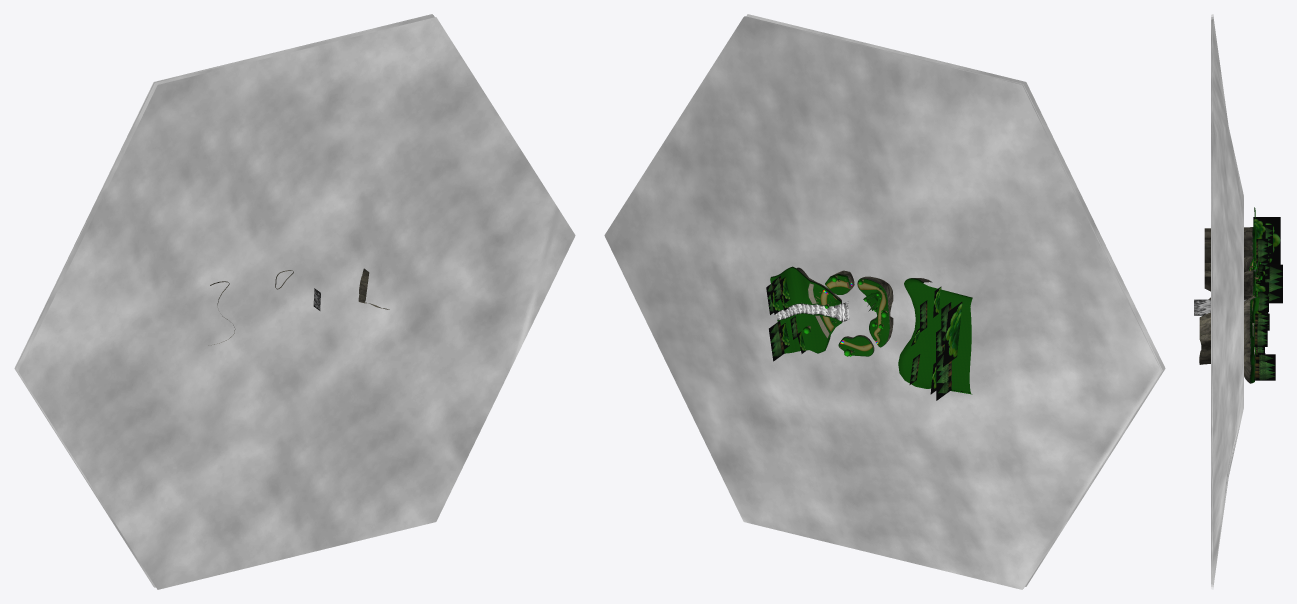
3 views of the same model, side by side, from view 1: azimuth 30°, elevation 25°; view 2: azimuth 150°, elevation 25°; view 3: azimuth 270°, elevation 25° (orthographic). The views are drawn at different scales.
Visible parts, largest first — view 1: clouds.001, A_clouds; view 2: A_clouds, s_grass, af_cn_natureGroup, clouds.001, s_roadDirt, A_movingWater_cn, s2_wallRock, s_grassRockEdge; view 3: A_clouds, af_cn_natureGroup, s2_wallRock, s_grassRockEdge, s_grass, A_movingWater_cn.
Boxes of the visible parts, box(x1,y1,x2,y2) form: clouds.001: box(18, 17, 575, 589); A_clouds: box(14, 14, 434, 587); A_clouds: box(604, 16, 1162, 589); s_grass: box(770, 268, 972, 394); af_cn_natureGroup: box(766, 276, 962, 400); clouds.001: box(746, 14, 1165, 586); s_roadDirt: box(820, 279, 886, 351); A_movingWater_cn: box(776, 301, 849, 321); s2_wallRock: box(797, 267, 932, 352); s_grassRockEdge: box(770, 266, 924, 356); A_clouds: box(1211, 14, 1243, 589); af_cn_natureGroup: box(1251, 217, 1282, 380); s2_wallRock: box(1199, 227, 1256, 383); s_grassRockEdge: box(1248, 226, 1258, 383); s_grass: box(1250, 207, 1259, 377); A_movingWater_cn: box(1194, 299, 1254, 355).
Size of the model in its own units: 559646 by 484668 by 86049.
21 materials, 21 textured.
